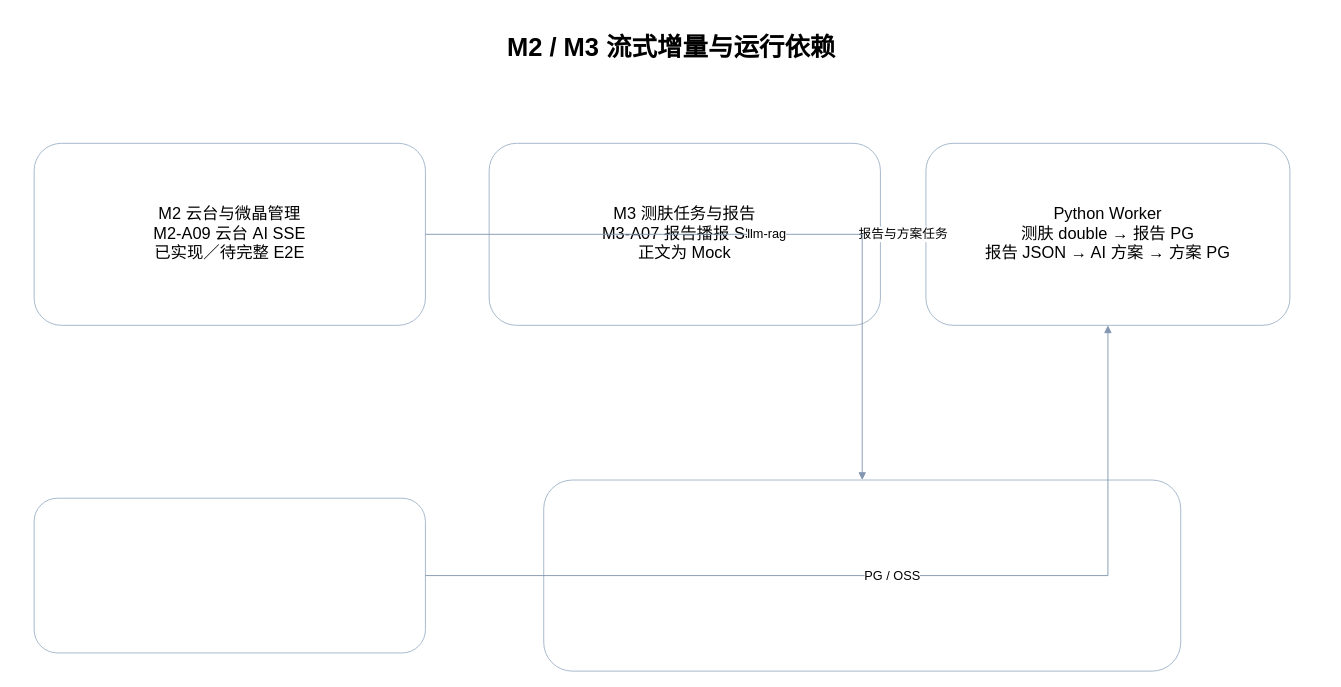
Some shapes in this 1341 by 687 pixel diagram are drawn without their labels. Each missing label, with the centre of its shape:
"待完整 E2E／未接入 InsightFace · llm-rag 方案 阿里移动推送未接入 · TTS 端侧" goes at (x=862, y=575).
"真实依赖 PostgreSQL · Redis 阿里短信 · OSS" goes at (x=229, y=575).
